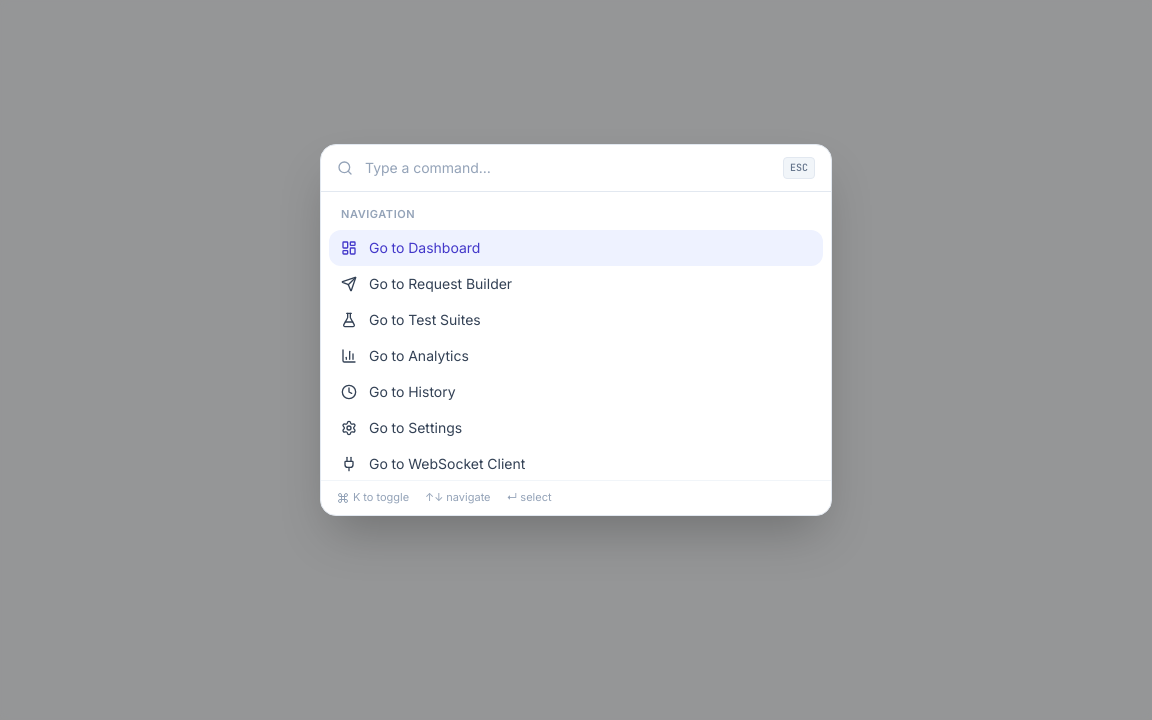
Test case: CommandPalette › filters commands by query
The width and height of the screenshot is (1152, 720).
In the field with placeholder "Type a command…": {"x": 568, "y": 168} [365, 158, 771, 178], type "dashboard"
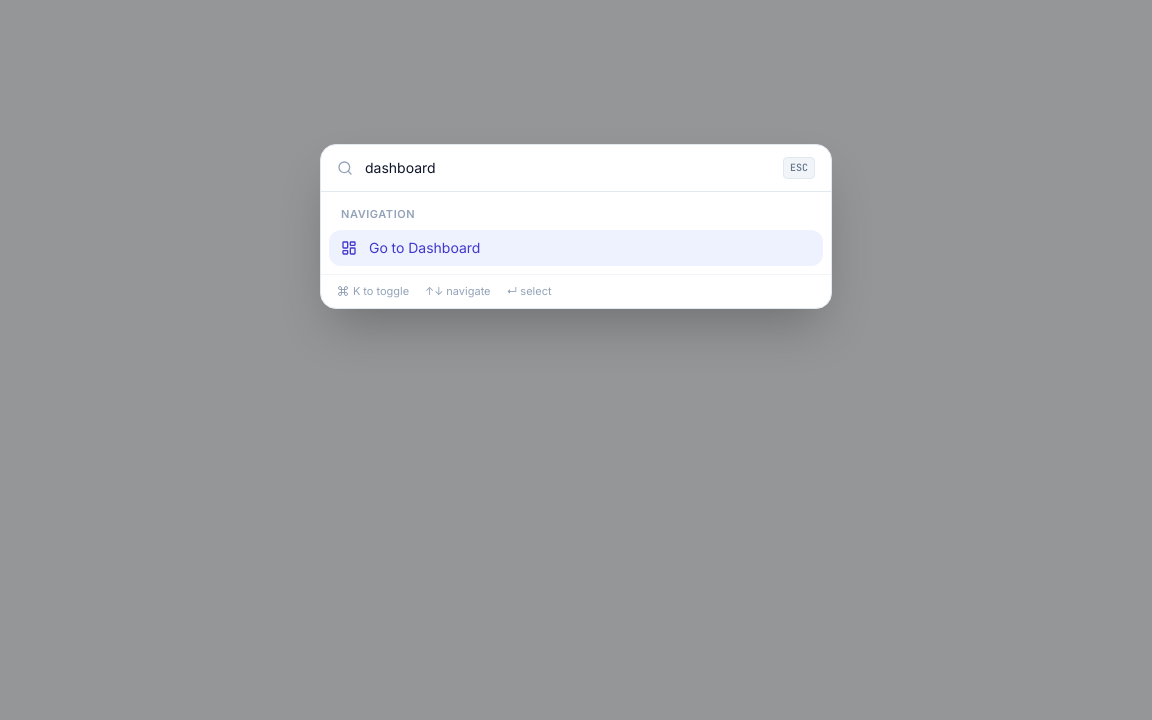
Check: the text "Go to Dashboard" is shown, box [369, 239, 480, 256]
Check: the option "Go to Settings" is gone
